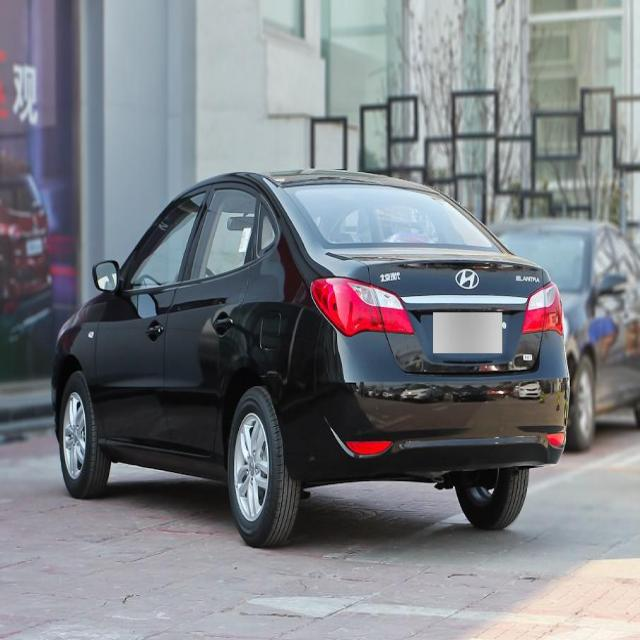back_glass: (281, 178, 506, 258)
back_left_side_light: (308, 273, 416, 337)
back_right_side_light: (519, 278, 566, 337)
door: (157, 199, 276, 459)
front_left_side_door: (88, 183, 210, 453)
front_left_side_mirror: (90, 255, 125, 295)
rear_bumper: (279, 337, 573, 485)
wheel: (228, 386, 298, 551), (58, 374, 108, 501)
